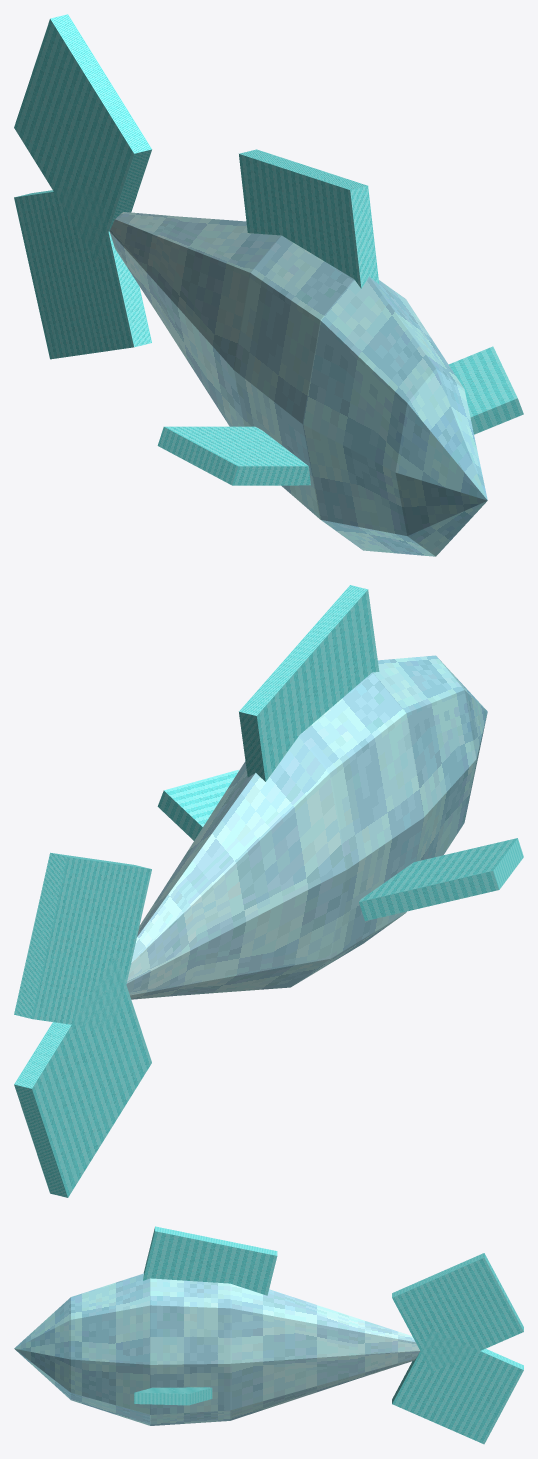
Rendered from perca_cristal.glb.
3 renders of one model, top to bottom at view 1: azimuth 30°, elevation 25°; view 2: azimuth 150°, elevation 25°; view 3: azimuth 270°, elevation 25°, orthographic. The views are drawn at different scales.
Parts seen in each view (by area): view 1: perca_cristal; view 2: perca_cristal; view 3: perca_cristal.
Boxes of the visible parts, <box> form: perca_cristal: <box>14,14,523,556</box>; perca_cristal: <box>14,585,523,1197</box>; perca_cristal: <box>14,1226,523,1444</box>.
Bounding box in the file's own units: 0.3498 × 0.3804 × 0.8242.
1 material, 1 textured.
